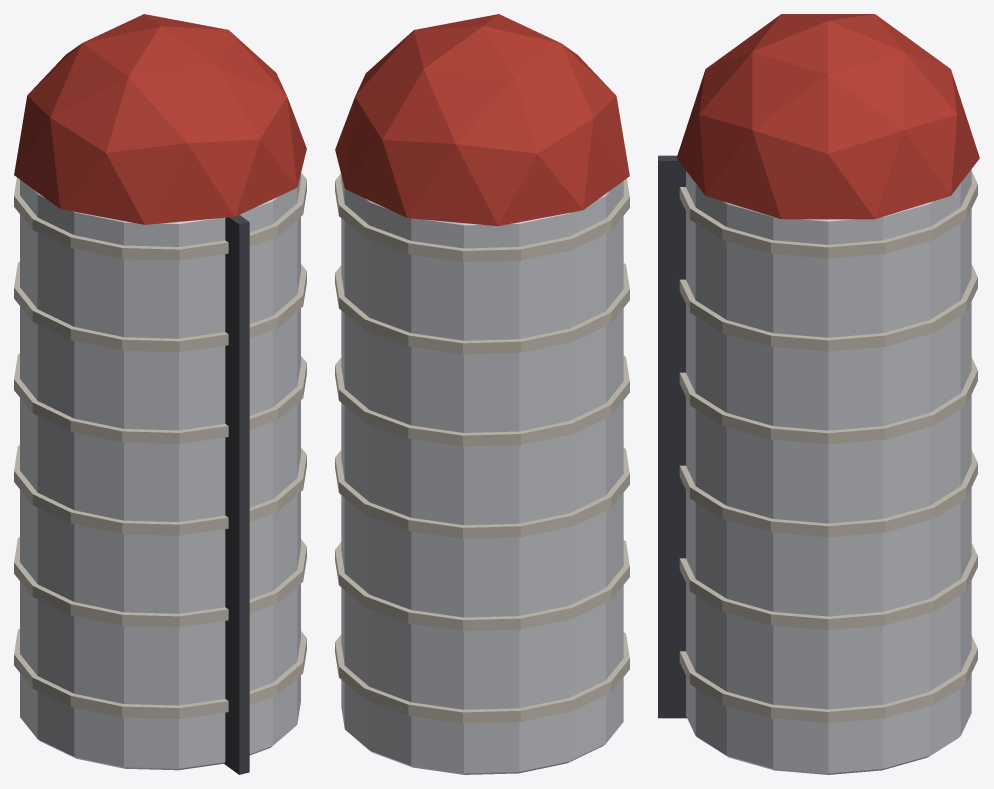
File: Silo.fbx
3 renders of one model, left to right at view 1: azimuth 30°, elevation 25°; view 2: azimuth 150°, elevation 25°; view 3: azimuth 270°, elevation 25°, orthographic.
Visible parts, largest first — view 1: Silo_Body, Silo_Roof, Silo_Trim, Silo_Frame; view 2: Silo_Body, Silo_Roof, Silo_Trim; view 3: Silo_Body, Silo_Roof, Silo_Trim, Silo_Frame.
Part boxes in pixels (x1,y1,x2,y2): Silo_Body: (20,174,300,770); Silo_Roof: (14,14,306,224); Silo_Trim: (14,172,306,718); Silo_Frame: (224,215,249,774); Silo_Body: (341,175,623,774); Silo_Roof: (335,14,629,226); Silo_Trim: (335,173,629,723); Silo_Body: (686,169,971,774); Silo_Roof: (676,14,979,219); Silo_Trim: (679,171,977,722); Silo_Frame: (658,155,686,718).
Bounding box in the file's own units: 14.6 × 37.4 × 15.7.
